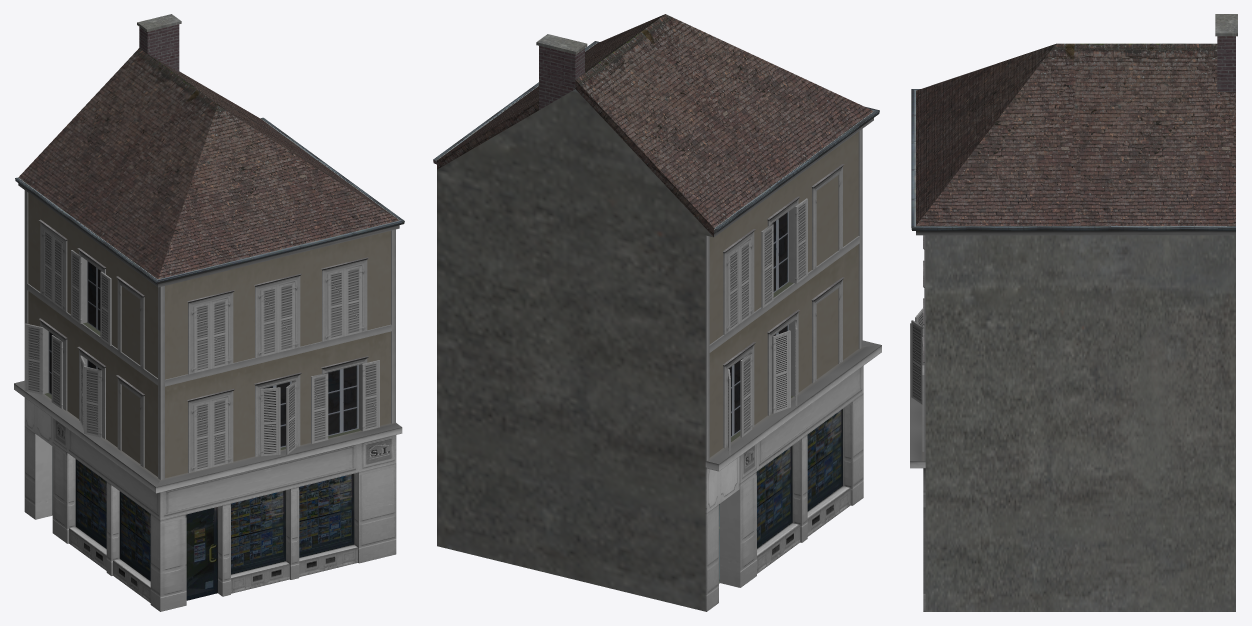
The model's file is troyes_corner_shop_1_france.glb.
The picture shows the model from 3 angles, left to right: view 1: azimuth 30°, elevation 25°; view 2: azimuth 150°, elevation 25°; view 3: azimuth 270°, elevation 25°; orthographic projection. The views are drawn at different scales.
Parts seen in each view (by area): view 1: 6 corner; view 2: 6 corner; view 3: 6 corner.
Part boxes in pixels (left/top/right/bottom): 6 corner: left=14, top=14, right=404, bottom=611; 6 corner: left=433, top=14, right=881, bottom=611; 6 corner: left=910, top=14, right=1237, bottom=611.
Bounding box in the file's own units: 7.45 × 13.17 × 7.39.
1 material, 1 textured.
